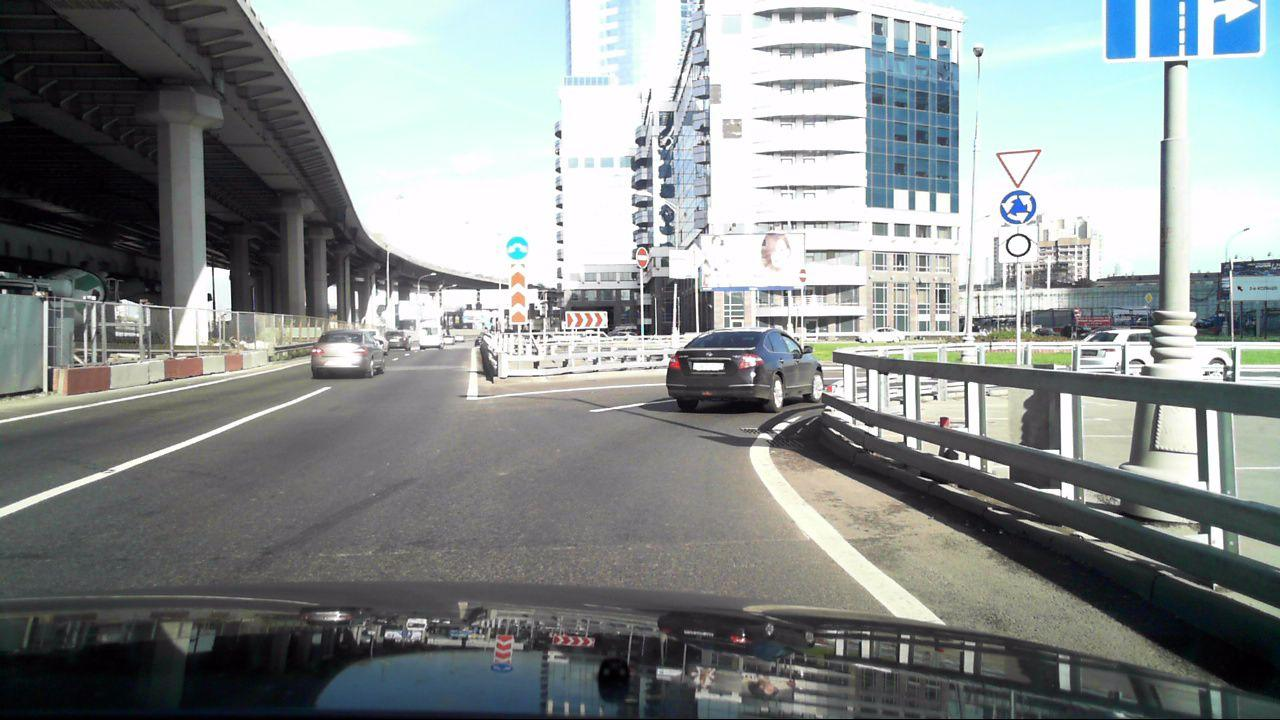1_34_1: (565, 310, 608, 329)
2_1: (1144, 291, 1154, 303)
2_4: (992, 147, 1044, 186)
3_1: (633, 245, 650, 268), (798, 267, 809, 285), (1073, 306, 1080, 315)
4_2_3: (506, 234, 530, 262)
4_3: (997, 189, 1038, 225)
5_15_1: (1100, 0, 1266, 60)
6_10_1: (1228, 274, 1280, 302)
8_13: (1000, 231, 1034, 262)
8_22_3: (509, 264, 527, 324)
